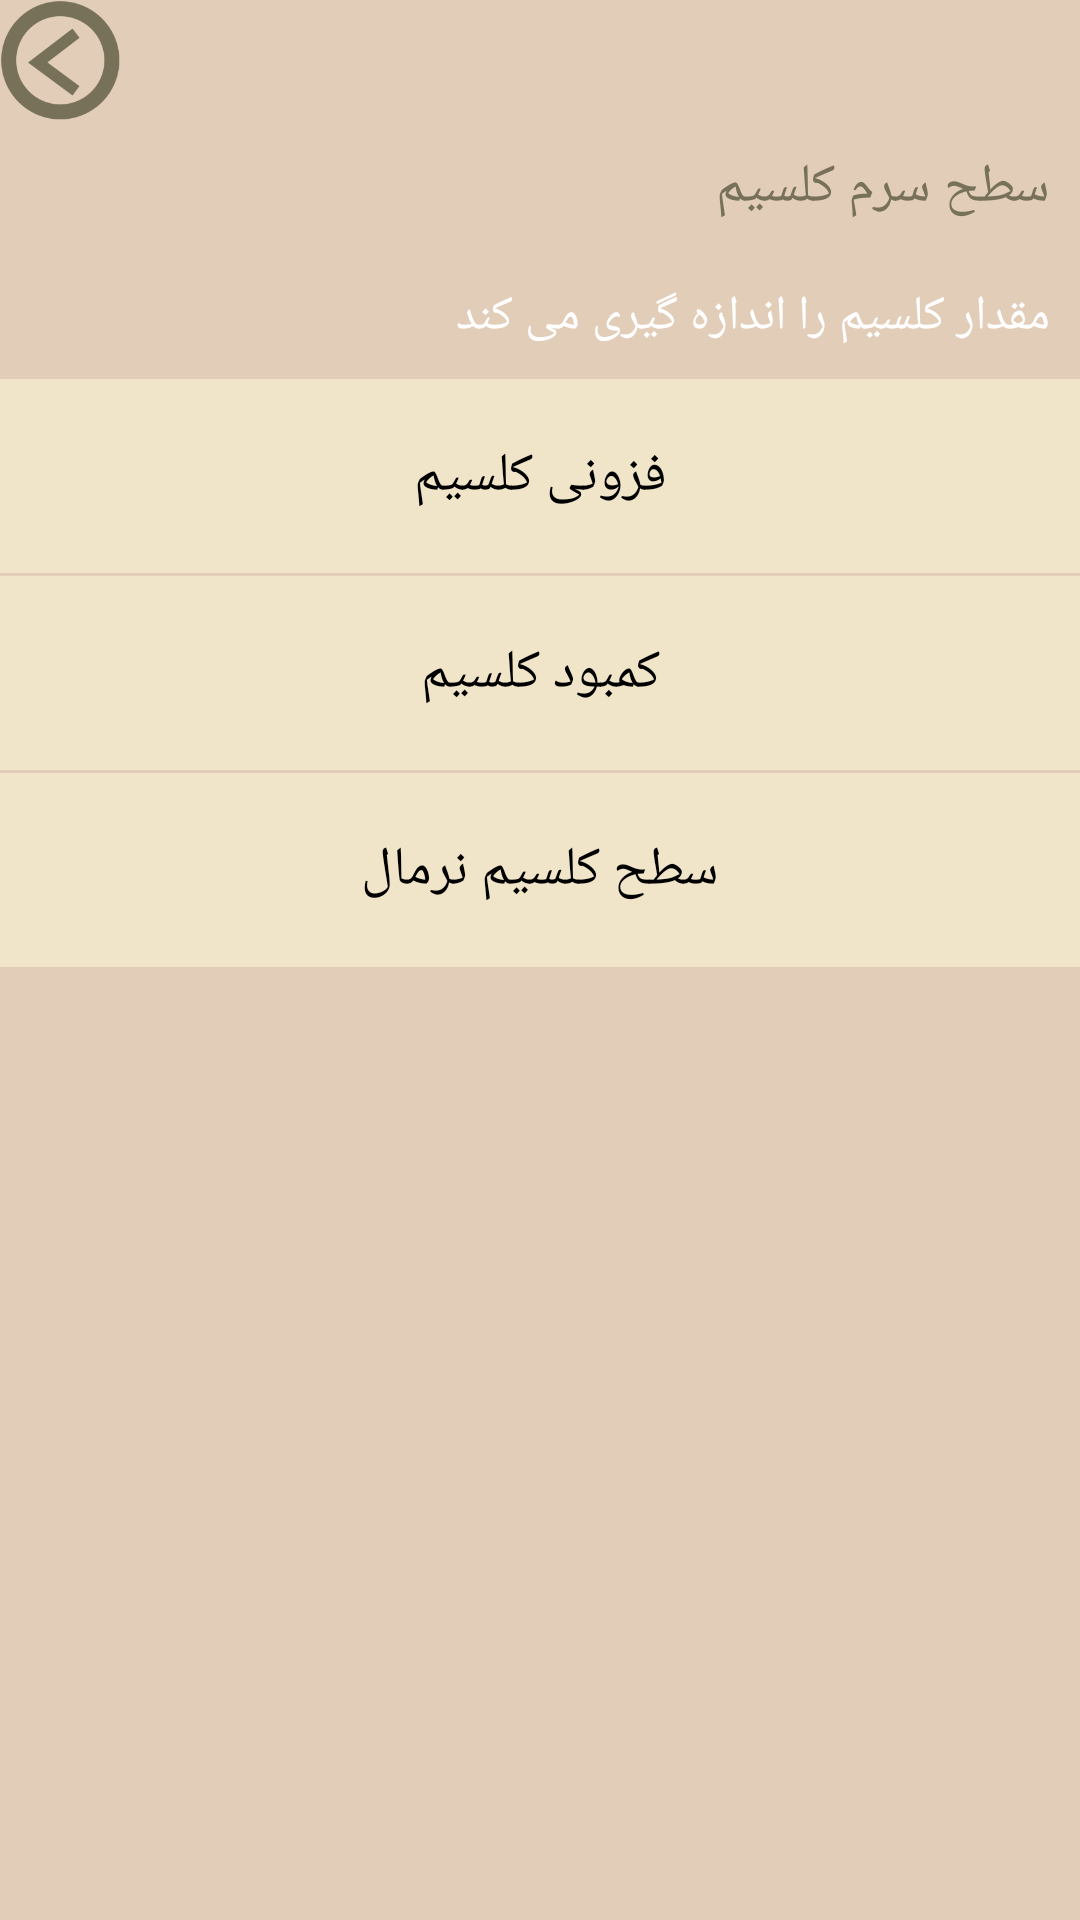

Screen size 1080×1920. Icon name, then its box in pixels as (x1, y1, x2, y2):
arrow left: (1, 1, 120, 120)
